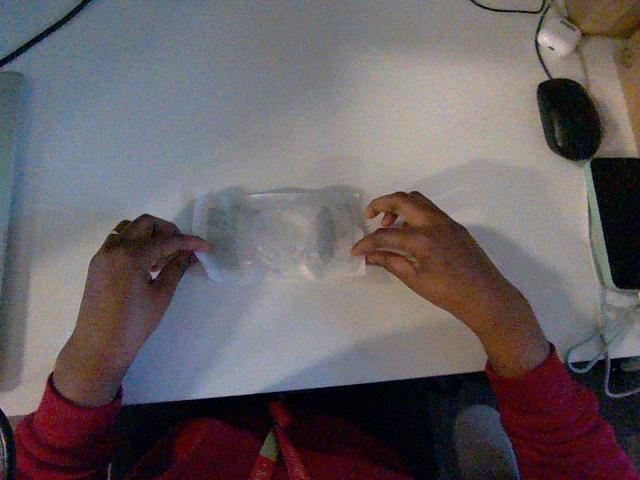gallipot: (193, 191, 364, 282)
